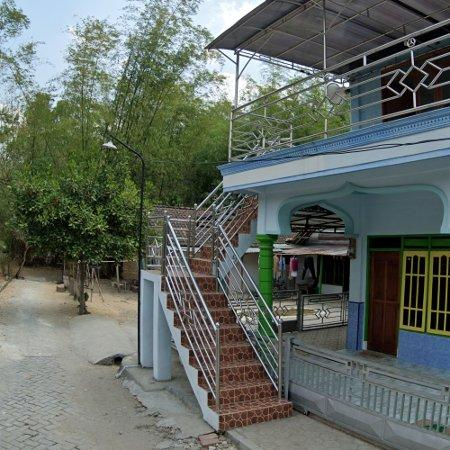stairs: (162, 219, 292, 432)
